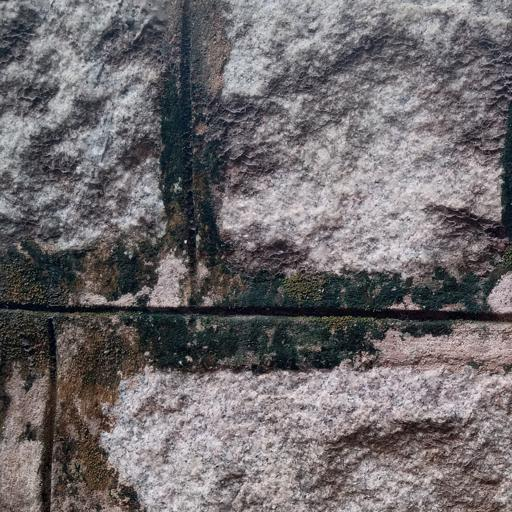algae: (5, 38, 512, 426)
